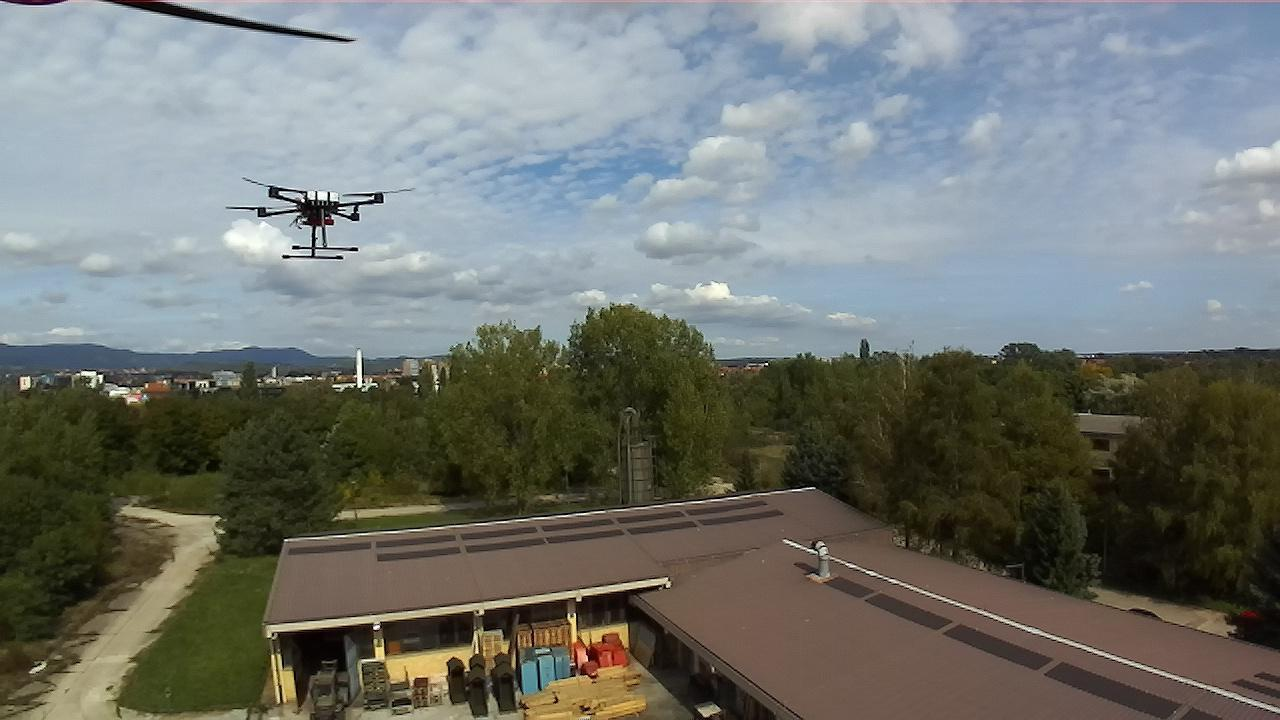drone: (227, 179, 411, 266)
